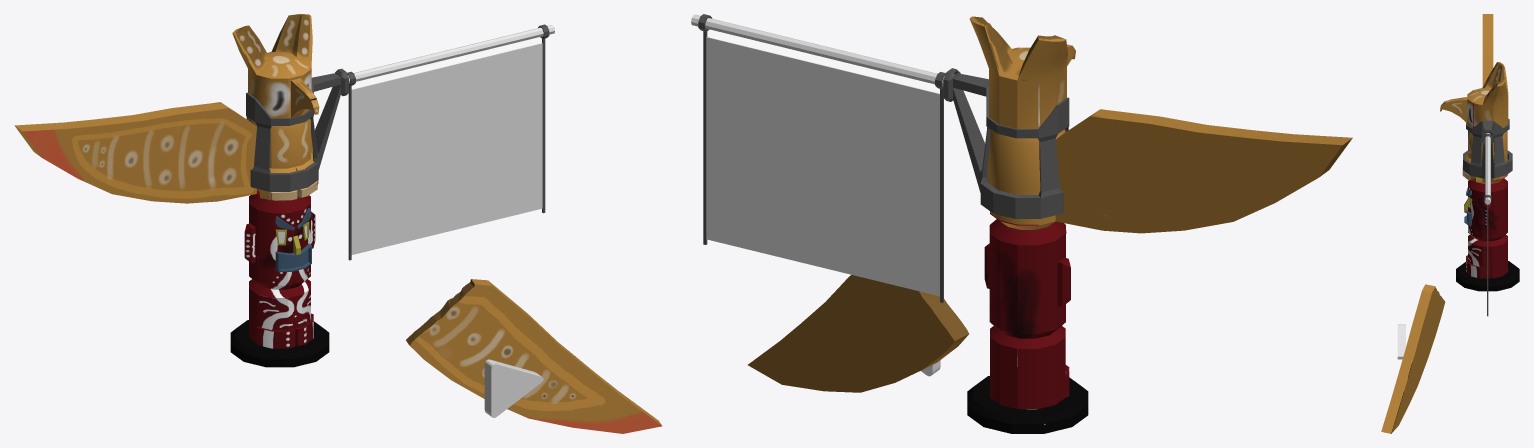
The model's file is Tank_TotemUI.fbx.
3 views of the same model, side by side, from view 1: azimuth 30°, elevation 25°; view 2: azimuth 150°, elevation 25°; view 3: azimuth 270°, elevation 25° (orthographic). The views are drawn at different scales.
Parts seen in each view (by area): view 1: Totem, Totem_Metal_Swinging, Totem_DetachedWing, Totem_Metal, Totem_Play, Totem_Metal_Rod; view 2: Totem, Totem_Metal_Swinging, Totem_DetachedWing, Totem_Metal, Totem_Metal_Rod; view 3: Totem, Totem_DetachedWing, Totem_Metal, Totem_Metal_Rod, Totem_Play, Totem_Metal_Swinging.
Part boxes in pixels (x1,y1,x2,y2): Totem: [14, 14, 329, 367]; Totem_Metal_Swinging: [347, 24, 549, 260]; Totem_DetachedWing: [406, 279, 662, 433]; Totem_Metal: [246, 68, 348, 191]; Totem_Play: [484, 359, 543, 417]; Totem_Metal_Rod: [348, 25, 554, 83]; Totem: [967, 16, 1352, 433]; Totem_Metal_Swinging: [698, 14, 945, 302]; Totem_DetachedWing: [748, 275, 968, 392]; Totem_Metal: [943, 68, 1069, 218]; Totem_Metal_Rod: [691, 14, 944, 86]; Totem: [1440, 14, 1519, 291]; Totem_DetachedWing: [1381, 284, 1445, 433]; Totem_Metal: [1463, 119, 1512, 178]; Totem_Metal_Rod: [1485, 133, 1490, 204]; Totem_Play: [1397, 324, 1405, 359]; Totem_Metal_Swinging: [1484, 134, 1491, 316].
Bounding box in the file's own units: 2035 × 1427 × 670.
Materials: 11 (3 with a texture image).
